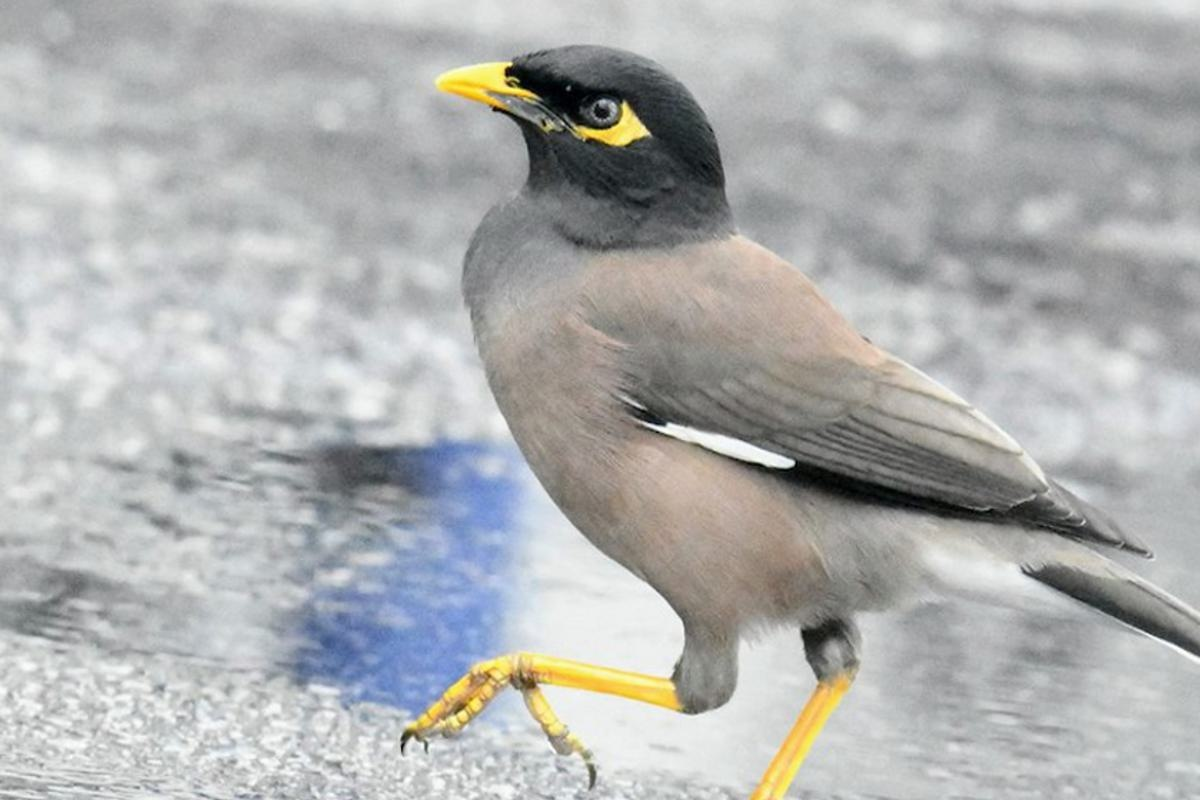myna: (413, 32, 1184, 800)
